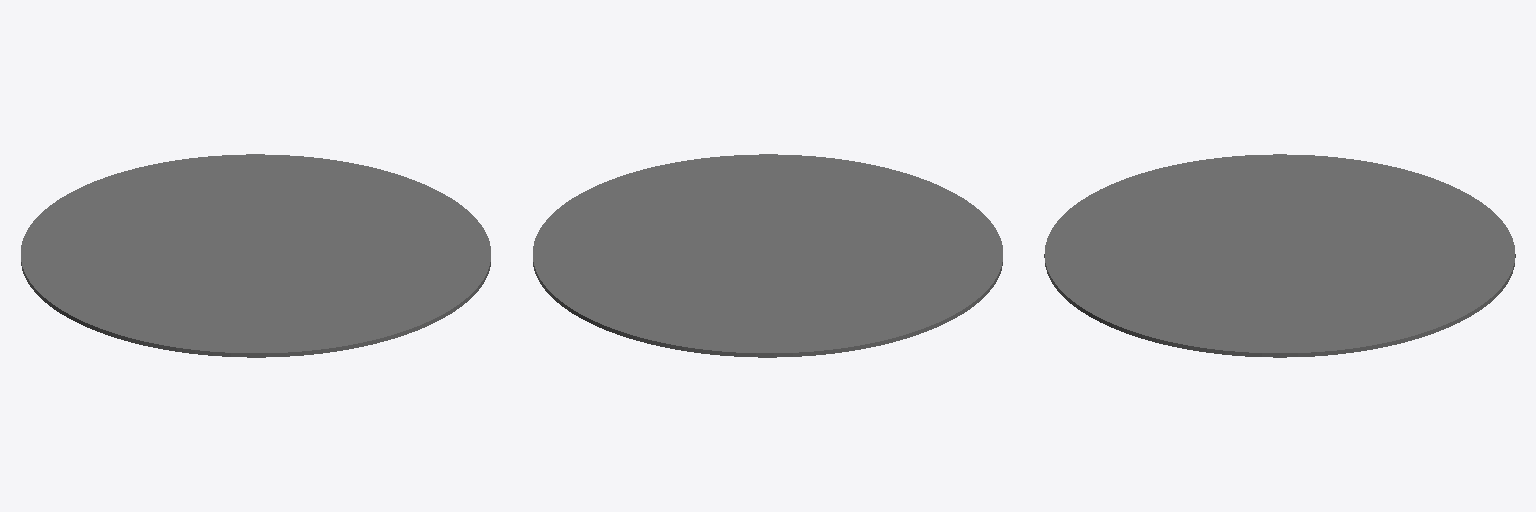
The model's file is ground.obj.
3 renders of one model, left to right at view 1: azimuth 30°, elevation 25°; view 2: azimuth 150°, elevation 25°; view 3: azimuth 270°, elevation 25°, orthographic.
Size of the model in its own units: 1020 by 10 by 1020.